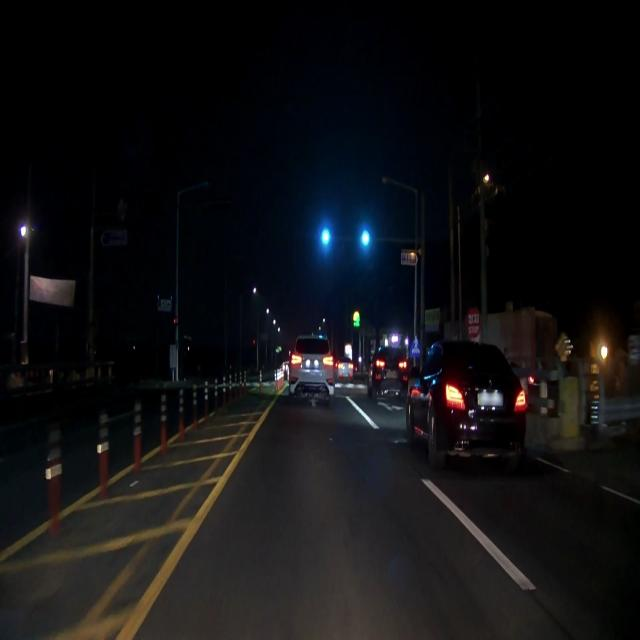Green Light: (319, 225, 334, 247), (359, 226, 372, 251)
